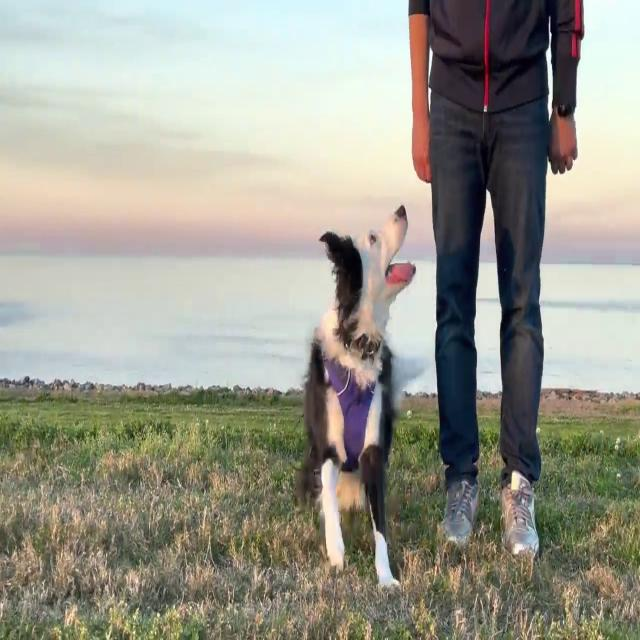Unleashed_Dog: (296, 109, 524, 589)
